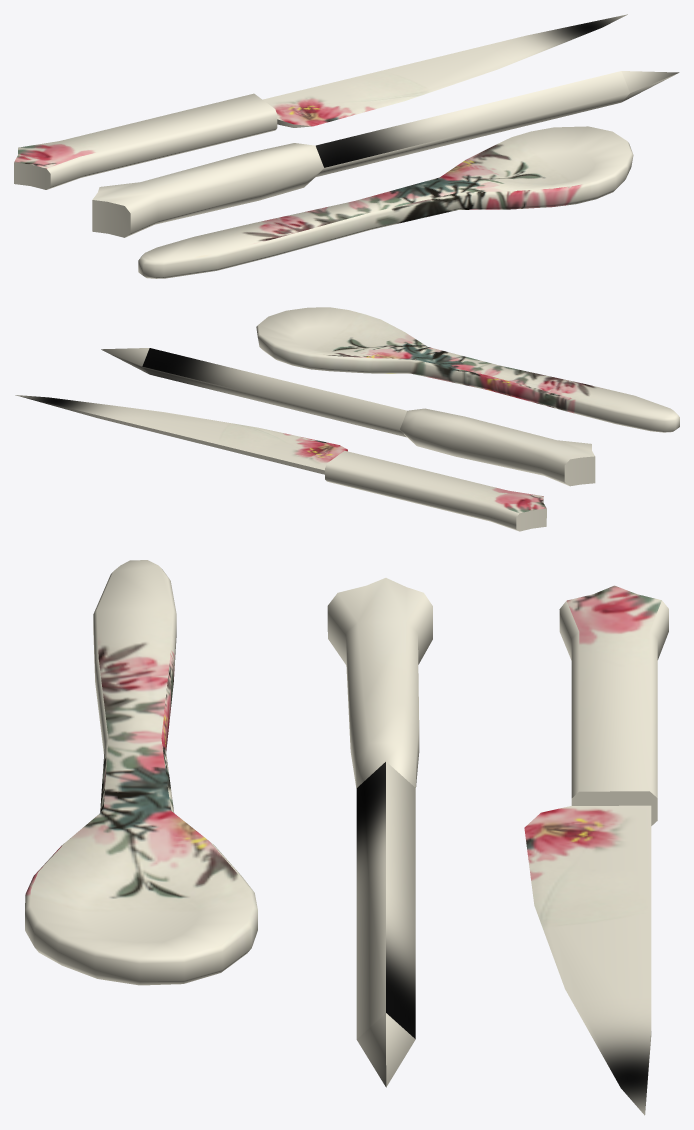
The picture shows the model from 3 angles, top to bottom: view 1: azimuth 30°, elevation 25°; view 2: azimuth 150°, elevation 25°; view 3: azimuth 270°, elevation 25°; orthographic projection. The views are drawn at different scales.
Parts seen in each view (by area): view 1: Cutlery_LP; view 2: Cutlery_LP; view 3: Cutlery_LP.
Boxes of the visible parts, box(x1,y1,x2,y2) form: Cutlery_LP: box(14, 14, 679, 278); Cutlery_LP: box(15, 307, 679, 531); Cutlery_LP: box(25, 560, 668, 1115).
Bounding box in the file's own units: 20.79 × 1.2 × 10.8.
